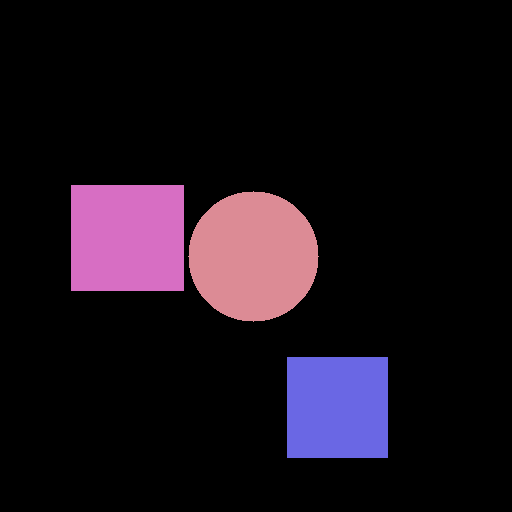circle: (188, 191, 318, 321)
square: (71, 185, 183, 290), (287, 357, 387, 457)
